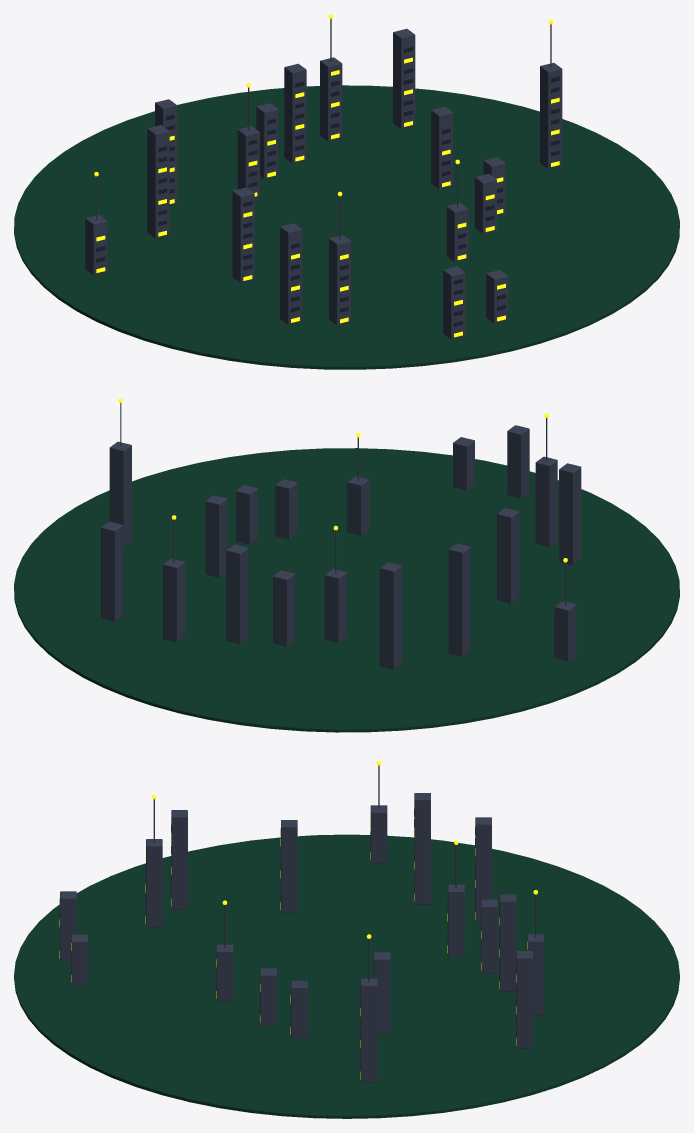
File: backdrop_08.glb
3 views of the same model, one above another, from view 1: azimuth 30°, elevation 25°; view 2: azimuth 150°, elevation 25°; view 3: azimuth 270°, elevation 25° (orthographic).
Parts seen in each view (by area): view 1: backdrop_08; view 2: backdrop_08; view 3: backdrop_08.
Boxes of the visible parts, x1,y1,x2,y2 form: backdrop_08: (14,14,679,369); backdrop_08: (14,398,679,732); backdrop_08: (14,761,679,1118).
Size of the model in its own units: 80 by 19.72 by 80.
